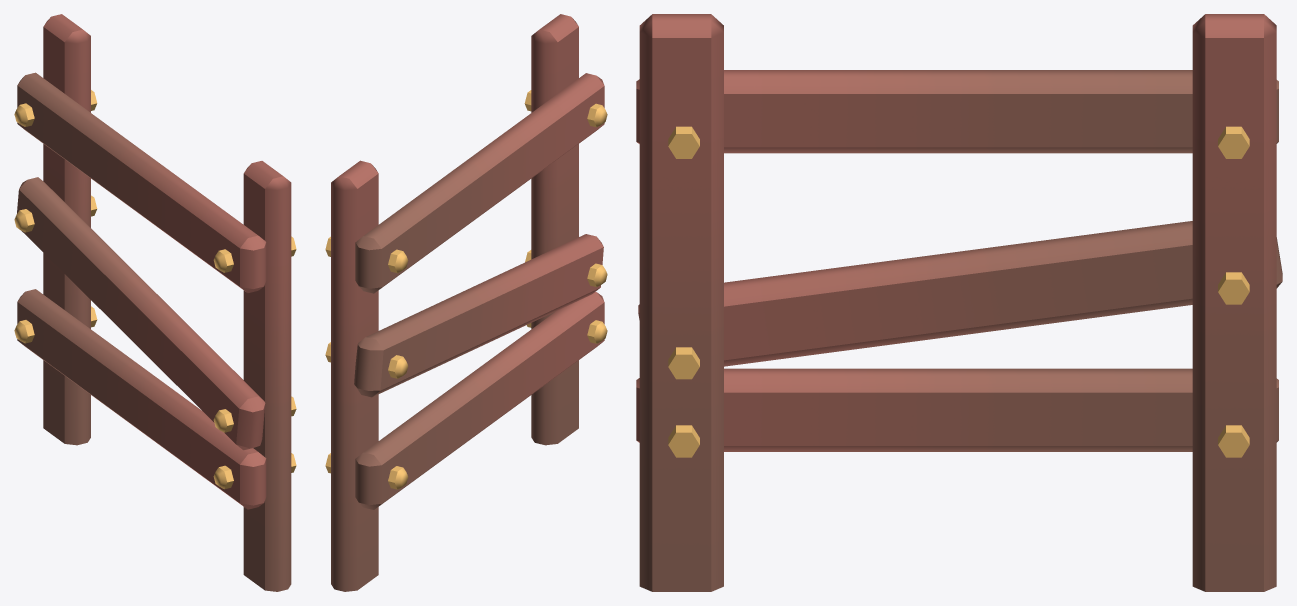
File: Fence_Mesh_02.fbx
The picture shows the model from 3 angles, left to right: view 1: azimuth 30°, elevation 25°; view 2: azimuth 150°, elevation 25°; view 3: azimuth 270°, elevation 25°; orthographic projection. The views are drawn at different scales.
Parts seen in each view (by area): view 1: Fence_02; view 2: Fence_02; view 3: Fence_02.
Boxes of the visible parts, bbox=[...] form: Fence_02: bbox=[14, 14, 296, 591]; Fence_02: bbox=[325, 14, 607, 591]; Fence_02: bbox=[636, 14, 1282, 591].
Size of the model in its own units: 0.2959 by 1.58 by 1.64.
